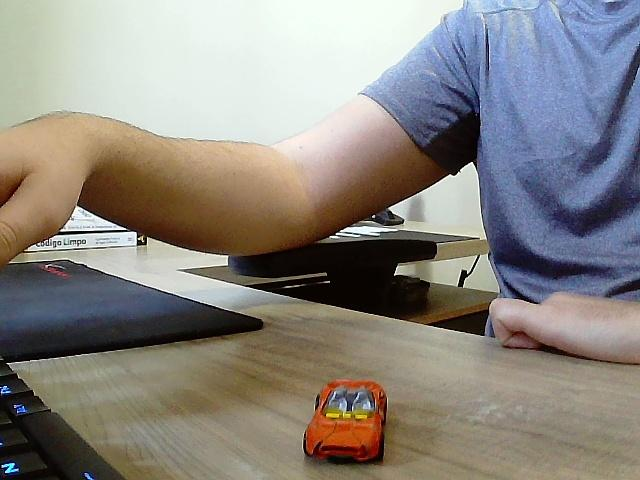Carro: (303, 380, 388, 465)
